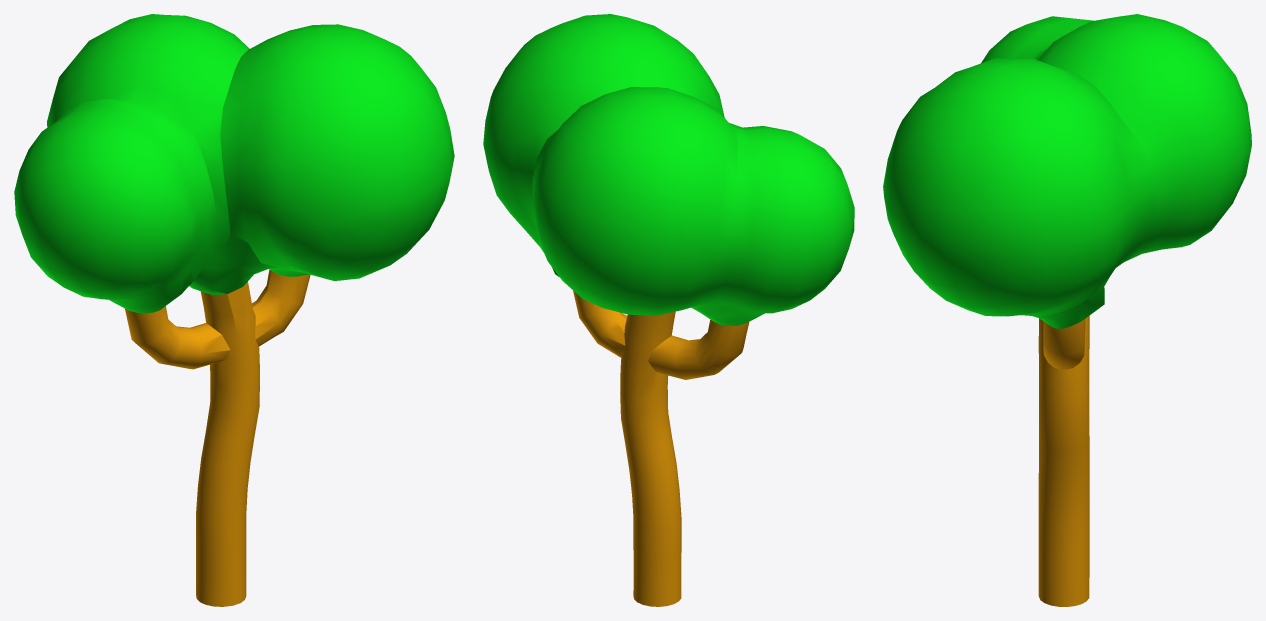
The model's file is arbol02.fbx.
The picture shows the model from 3 angles, left to right: view 1: azimuth 30°, elevation 25°; view 2: azimuth 150°, elevation 25°; view 3: azimuth 270°, elevation 25°; orthographic projection. The views are drawn at different scales.
Visible parts, largest first — view 1: Arbol02; view 2: Arbol02; view 3: Arbol02.
Boxes of the visible parts, bbox=[...] form: Arbol02: bbox=[14, 14, 454, 606]; Arbol02: bbox=[483, 14, 854, 606]; Arbol02: bbox=[883, 14, 1251, 606].
Bounding box in the file's own units: 476 × 661 × 390.
